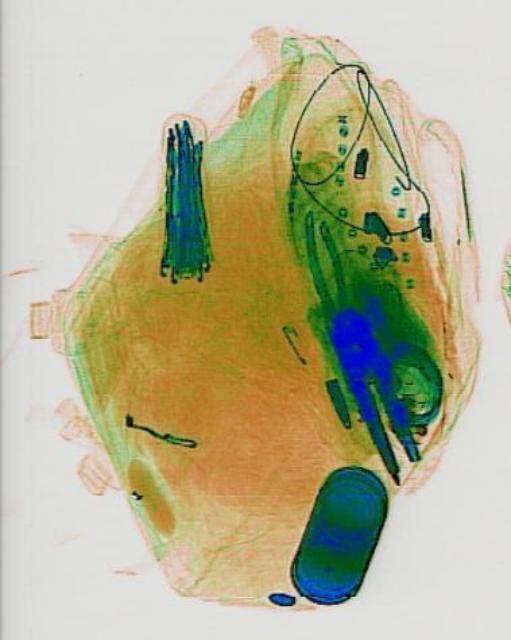Pliers: (318, 298, 431, 486), (295, 205, 359, 368)
